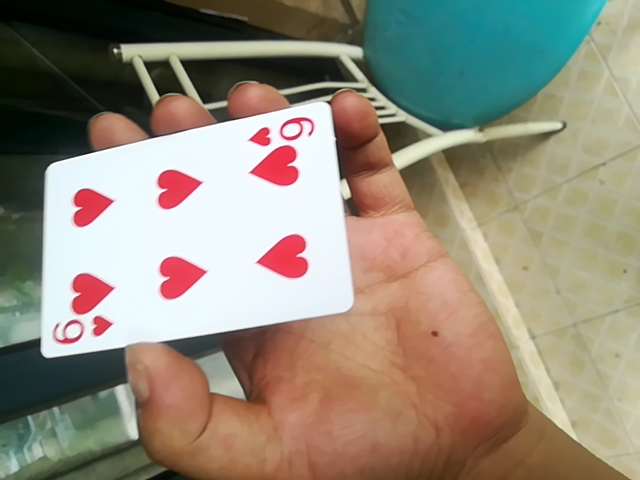hx 6: (33, 102, 360, 361)
